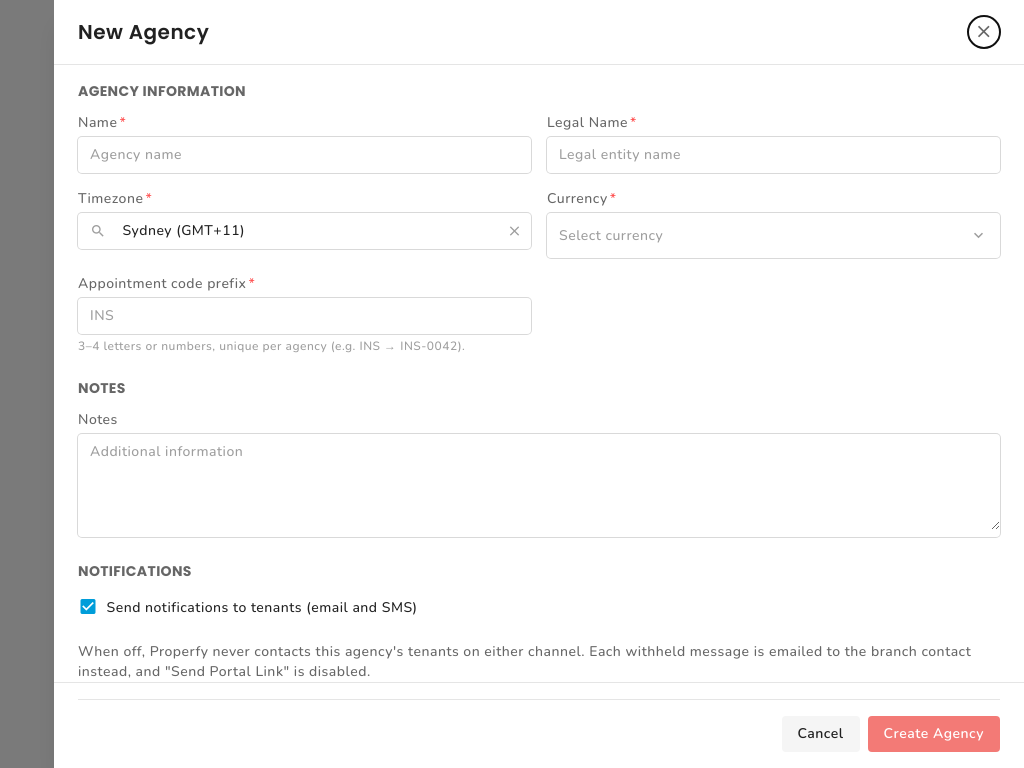
TenantFormDrawer – submit behavior › blocks submit and shows inline errors when required fields are empty
The image size is (1024, 768).
Click the button "Create Agency" at (934, 734), box [868,716,1000,752]
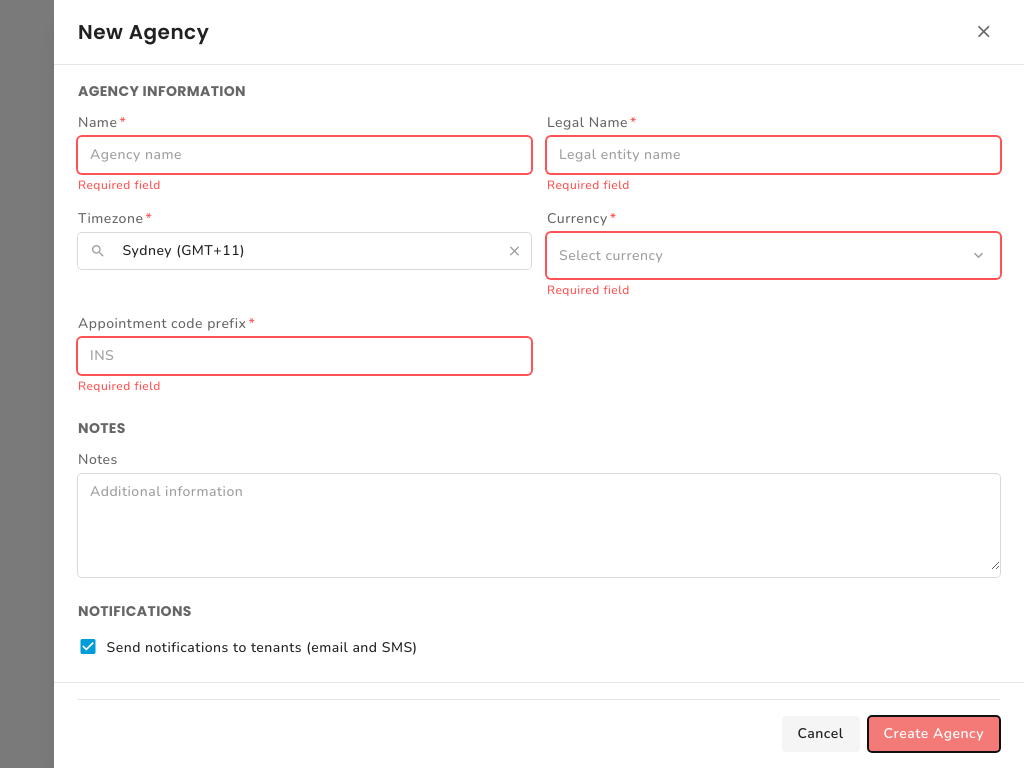
Now the 1st text "Required field" is shown, box [78,177,161,193]
